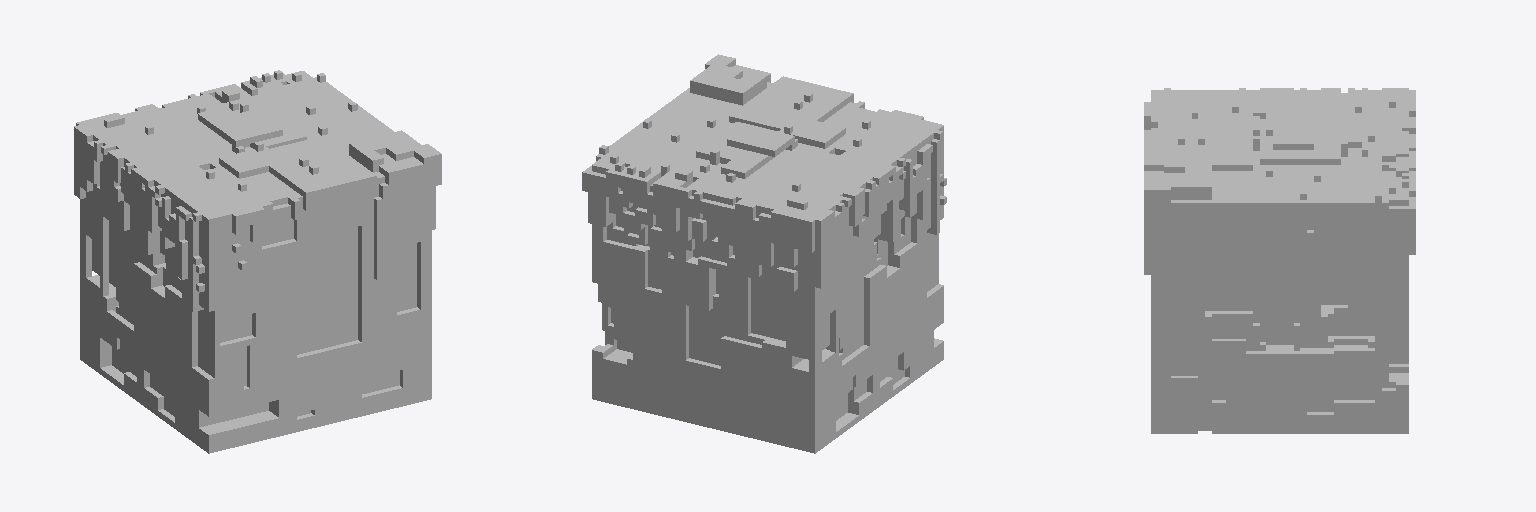
The model's file is grass.obj.
3 views of the same model, side by side, from view 1: azimuth 30°, elevation 25°; view 2: azimuth 150°, elevation 25°; view 3: azimuth 270°, elevation 25° (orthographic).
Parts seen in each view (by area): view 1: object 1; view 2: object 1; view 3: object 1.
Part boxes in pixels (bbox=[...]): object 1: bbox=[74, 70, 441, 453]; object 1: bbox=[582, 54, 946, 453]; object 1: bbox=[1144, 88, 1415, 433].
Size of the model in its own units: 4 by 4 by 4.